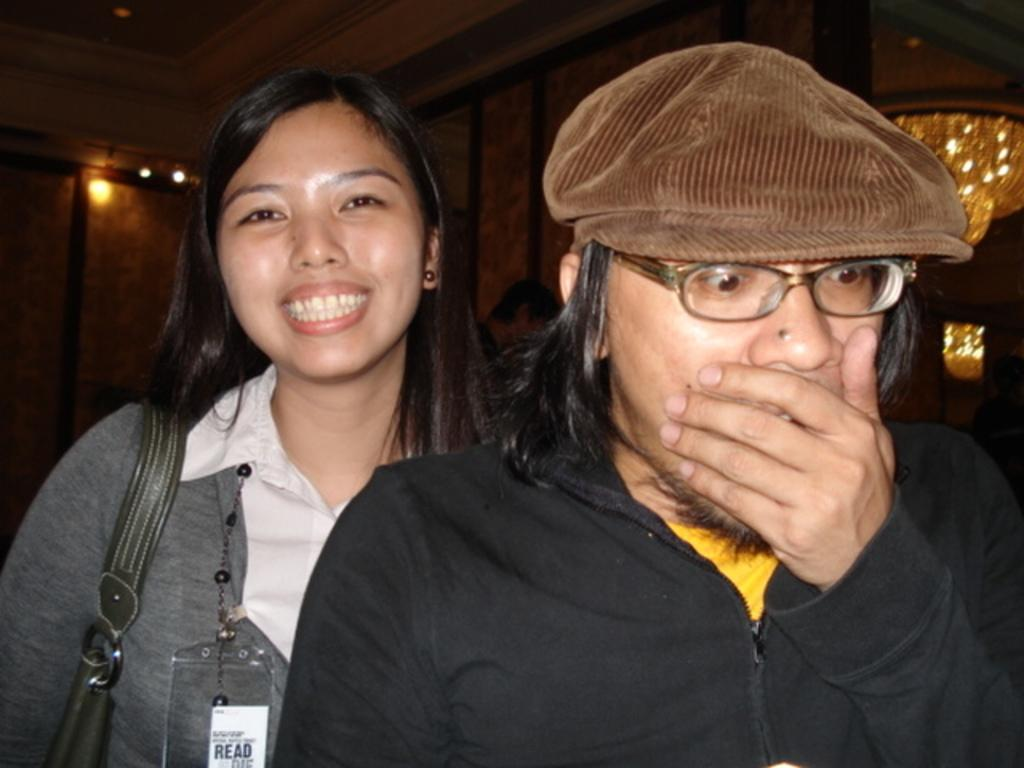Hat: (544, 38, 974, 264)
